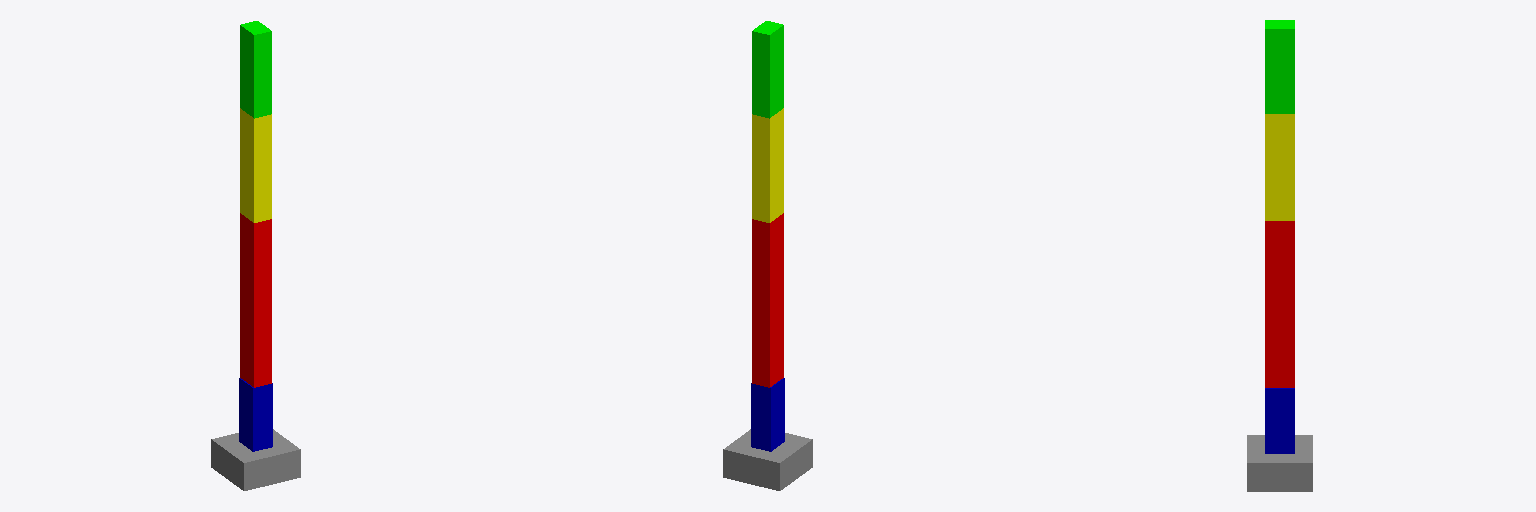
URDF robot description (omnipointer):
<?xml version="1.0" ?>

<robot name="omnipointer" xmlns:xacro="http://ros.org/wiki/xacro">
  <material name="omni/Blue">
    <color rgba="0 0 0.8 1"/>
  </material>
  <material name="omni/Red">
    <color rgba="1 0 0 1"/>
  </material>
  <material name="omni/Green">
    <color rgba="0 1 0 1"/>
  </material>
  <material name="omni/Yellow">
    <color rgba="1 1 0 1"/>
  </material>
  <material name="omni/LightGrey">
    <color rgba="0.6 0.6 0.6 1"/>
  </material>
  <material name="omni/DarkGrey">
    <color rgba="0.4 0.4 0.4 1"/>
  </material>
  
  <link name="base_link">
    <inertial>
      <origin rpy="0 0 0" xyz="0 0 0"/>
      <mass value="10.0"/>
      <inertia ixx="0.1" ixy="0" ixz="0" iyy="0.1" iyz="0" izz="0.1"/>
    </inertial>
  </link>

  <joint name="arm_joint_0" type="fixed">
    <origin rpy="0 0 0" xyz="0 0 0"/>
    <parent link="base_link"/>
    <child link="arm_link_0"/>
  </joint>
  <link name="arm_link_0">
    <visual>
      <origin rpy="0 0 0" xyz="0 0 0.02725"/>
      <geometry>
        <box size="0.1143 0.1143 0.0545"/>
      </geometry>
      <material name="omni/LightGrey"/>
    </visual>
    <collision>
      <origin rpy="0 0 0" xyz="0 0 0.02725"/>
      <geometry>
        <box size="0.1143 0.1143 0.0545"/>
      </geometry>
    </collision>
    <inertial>
      <!-- CENTER OF MASS -->
      <origin rpy="0 0 0" xyz="0 0 0.02725"/>
      <mass value="0.2"/>
      <!-- box inertia: 1/12*m(y^2+z^2), ... -->
      <inertia ixx="0.000267245666667" ixy="0" ixz="0" iyy="0.000267245666667" iyz="0" izz="0.000435483"/>
    </inertial>
  </link>
  <joint name="arm_joint_1" type="revolute">
    <parent link="arm_link_0"/>
    <child link="arm_link_1"/>
    <dynamics damping="3.0" friction="0.3"/>
    <limit effort="30.0" lower="-3.1415926535" upper="3.1415926535" velocity="5.0"/>
    <origin rpy="0 0 0" xyz="0 0 0.0545"/>
    <axis xyz="0 0 1"/>
  </joint>
  <link name="arm_link_1">
    <visual>
      <origin rpy="0 0 0" xyz="0 0 0.0615"/>
      <geometry>
        <box size="0.0402 0.05 0.123"/>
      </geometry>
      <material name="omni/Blue"/>
    </visual>
    <collision>
      <origin rpy="0 0 0" xyz="0 0 0.0615"/>
      <geometry>
        <box size="0.0402 0.05 0.123"/>
      </geometry>
    </collision>
    <inertial>
      <!-- CENTER OF MASS -->
      <origin rpy="0 0 0" xyz="0 0 0.0615"/>
      <mass value="0.190421352"/>
      <!-- box inertia: 1/12*m(y^2+z^2), ... -->
      <inertia ixx="0.000279744834534" ixy="0" ixz="0" iyy="0.000265717763008" iyz="0" izz="6.53151584738e-05"/>
    </inertial>
  </link>
  <joint name="arm_joint_2" type="revolute">
    <parent link="arm_link_1"/>
    <child link="arm_link_2"/>
    <dynamics damping="3.0" friction="0.3"/>
    <limit effort="30.0" lower="-1.57079632679" upper="1.57079632679" velocity="5.0"/>
    <origin rpy="0 0 0" xyz="0 0 0.123"/>
    <axis xyz="0 1 0"/>
  </joint>
  <link name="arm_link_2">
    <visual>
      <origin rpy="0 0 0" xyz="0 0 0.1585"/>
      <geometry>
        <box size="0.0356 0.05 0.317"/>
      </geometry>
      <material name="omni/Red"/>
    </visual>
    <collision>
      <origin rpy="0 0 0" xyz="0 0 0.1585"/>
      <geometry>
        <box size="0.0356 0.05 0.317"/>
      </geometry>
    </collision>
    <inertial>
      <!-- CENTER OF MASS -->
      <origin rpy="0 0 0" xyz="0 0 0.1585"/>
      <mass value="0.29302326"/>
      <!-- box inertia: 1/12*m(y^2+z^2), ... -->
      <inertia ixx="0.00251484771035" ixy="0" ixz="0" iyy="0.00248474836108" iyz="0" izz="9.19936757328e-05"/>
    </inertial>
  </link>
  <joint name="arm_joint_3" type="revolute">
    <parent link="arm_link_2"/>
    <child link="arm_link_3"/>
    <dynamics damping="3.0" friction="0.3"/>
    <limit effort="30.0" lower="-1.57079632679" upper="1.57079632679" velocity="5.0"/>
    <origin rpy="0 0 0" xyz="0 0 0.317"/>
    <axis xyz="0 1 0"/>
  </joint>
  <link name="arm_link_3">
    <visual>
      <origin rpy="0 0 0" xyz="0 0 0.101"/>
      <geometry>
        <box size="0.0356 0.05 0.202"/>
      </geometry>
      <material name="omni/Yellow"/>
    </visual>
    <collision>
      <origin rpy="0 0 0" xyz="0 0 0.101"/>
      <geometry>
        <box size="0.0356 0.05 0.202"/>
      </geometry>
    </collision>
    <inertial>
      <!-- CENTER OF MASS -->
      <origin rpy="0 0 0" xyz="0 0 0.101"/>
      <mass value="0.21931466"/>
      <!-- box inertia: 1/12*m(y^2+z^2), ... -->
      <inertia ixx="0.000791433503053" ixy="0" ixz="0" iyy="0.000768905501178" iyz="0" izz="6.88531064581e-05"/>
    </inertial>
  </link>
  <joint name="arm_joint_4" type="revolute">
    <parent link="arm_link_3"/>
    <child link="arm_link_4"/>
    <dynamics damping="3.0" friction="0.3"/>
    <limit effort="30.0" lower="-1.57079632679" upper="1.57079632679" velocity="5.0"/>
    <origin rpy="0 0 0" xyz="0 0 0.202"/>
    <axis xyz="0 1 0"/>
  </joint>
  <link name="arm_link_4">
    <visual>
      <origin rpy="0 0 0" xyz="0 0 0.08025"/>
      <geometry>
        <box size="0.0356 0.05 0.1605"/>
      </geometry>
      <material name="omni/Green"/>
    </visual>
    <collision>
      <origin rpy="0 0 0" xyz="0 0 0.08025"/>
      <geometry>
        <box size="0.0356 0.05 0.1605"/>
      </geometry>
    </collision>
    <inertial>
      <!-- CENTER OF MASS -->
      <origin rpy="0 0 0" xyz="0 0 0.08025"/>
      <mass value="0.15813986"/>
      <!-- box inertia: 1/12*m(y^2+z^2), ... -->
      <inertia ixx="0.00037242266488" ixy="0" ixz="0" iyy="0.000356178538461" iyz="0" izz="4.96474819141e-05"/>
    </inertial>
  </link>
  <joint name="arm_joint_5" type="fixed">
    <parent link="arm_link_4"/>
    <child link="arm_link_5"/>
    <origin rpy="0 0 0" xyz="0 0 0.1605"/>
  </joint>
  <link name="arm_link_5">
    <inertial>
      <!-- CENTER OF MASS -->
      <origin rpy="0 0 0" xyz="0 0 0"/>
      <mass value="1e-12"/>
      <!-- box inertia: 1/12*m(y^2+z^2), ... -->
      <inertia ixx="1e-12" ixy="0" ixz="0" iyy="1e-12" iyz="0" izz="1e-12"/>
    </inertial>
  </link>
  <!-- END OF ARM LINKS/JOINTS -->
</robot>

--- Facts derived from the render (not from the file) ---
Views: 3 orthographic renders of the robot side by side, from view 1: azimuth 30°, elevation 25°; view 2: azimuth 150°, elevation 25°; view 3: azimuth 270°, elevation 25°.
Model omnipointer with 7 links and 6 joints (4 revolute, 2 fixed), rooted at base_link, posed every joint at zero.
Links seen in each view (by area): view 1: arm_link_2, arm_link_0, arm_link_3, arm_link_4, arm_link_1; view 2: arm_link_2, arm_link_0, arm_link_3, arm_link_4, arm_link_1; view 3: arm_link_2, arm_link_3, arm_link_0, arm_link_4, arm_link_1.
Link boxes in pixels (left/top/right/bottom): arm_link_2: left=240, top=213, right=271, bottom=387; arm_link_0: left=211, top=429, right=300, bottom=490; arm_link_3: left=240, top=108, right=271, bottom=222; arm_link_4: left=240, top=21, right=271, bottom=118; arm_link_1: left=239, top=378, right=272, bottom=451; arm_link_2: left=752, top=213, right=783, bottom=387; arm_link_0: left=723, top=429, right=812, bottom=490; arm_link_3: left=752, top=108, right=783, bottom=222; arm_link_4: left=752, top=21, right=783, bottom=118; arm_link_1: left=751, top=378, right=784, bottom=451; arm_link_2: left=1265, top=221, right=1294, bottom=387; arm_link_3: left=1265, top=114, right=1294, bottom=220; arm_link_0: left=1247, top=435, right=1312, bottom=491; arm_link_4: left=1265, top=20, right=1294, bottom=113; arm_link_1: left=1265, top=388, right=1294, bottom=453.
Size in the robot's own frame: 0.1143 by 0.1143 by 0.857 metres.
Geometry: primitives only (box / cylinder / sphere), no mesh files.